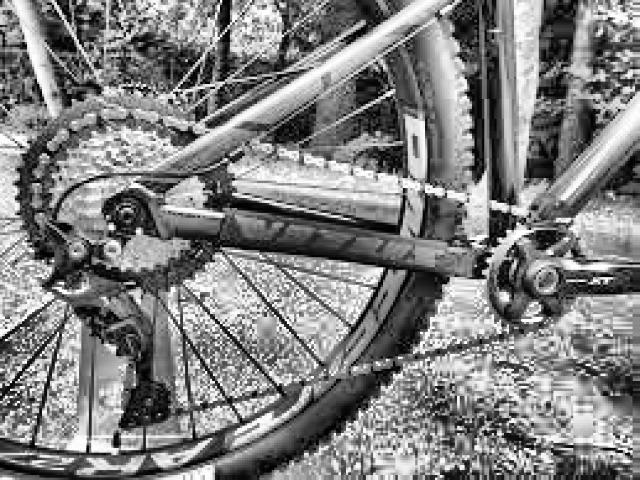cassette: (15, 89, 239, 293)
cranks_set: (483, 221, 638, 332)
rear_derailleur: (34, 226, 178, 430)
